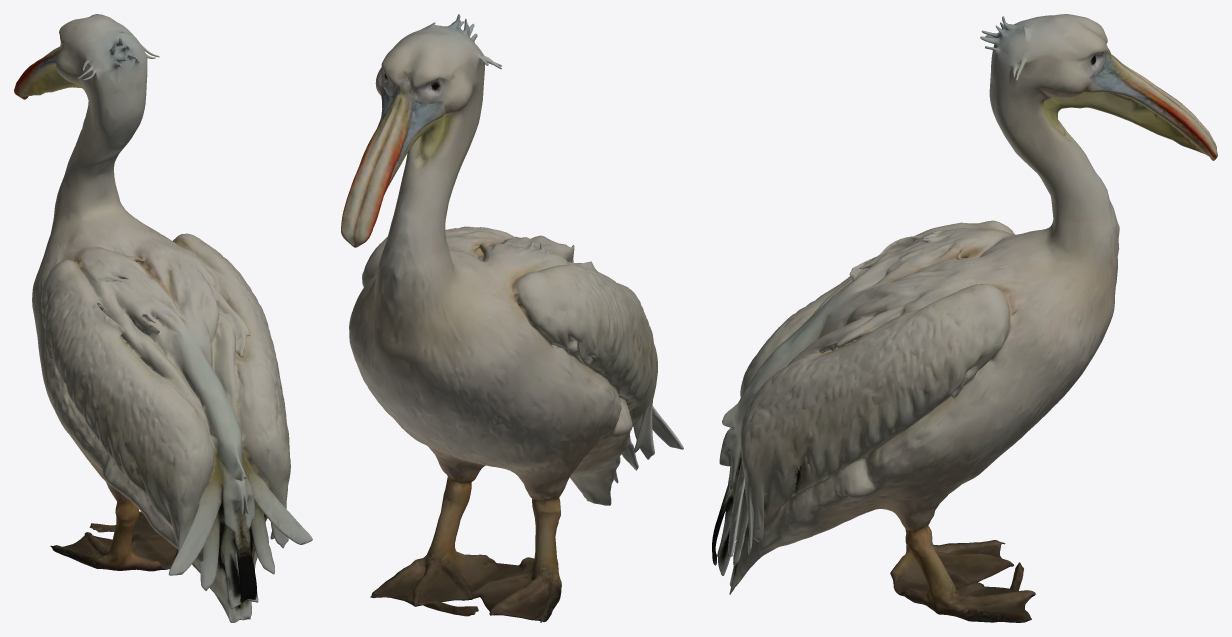
The model's file is uk-pelican.glb.
3 views of the same model, side by side, from view 1: azimuth 30°, elevation 25°; view 2: azimuth 150°, elevation 25°; view 3: azimuth 270°, elevation 25° (orthographic). The views are drawn at different scales.
Visible parts, largest first — view 1: tripo_node_a24093d0-3d5b-4f58-9493-a16c94adbd63; view 2: tripo_node_a24093d0-3d5b-4f58-9493-a16c94adbd63; view 3: tripo_node_a24093d0-3d5b-4f58-9493-a16c94adbd63.
Boxes of the visible parts, bbox=[...] form: tripo_node_a24093d0-3d5b-4f58-9493-a16c94adbd63: bbox=[14, 14, 312, 622]; tripo_node_a24093d0-3d5b-4f58-9493-a16c94adbd63: bbox=[341, 14, 683, 622]; tripo_node_a24093d0-3d5b-4f58-9493-a16c94adbd63: bbox=[712, 14, 1217, 622].
Size of the model in its own units: 0.4172 by 0.9998 by 0.8.
Materials: 1 (1 with a texture image).
